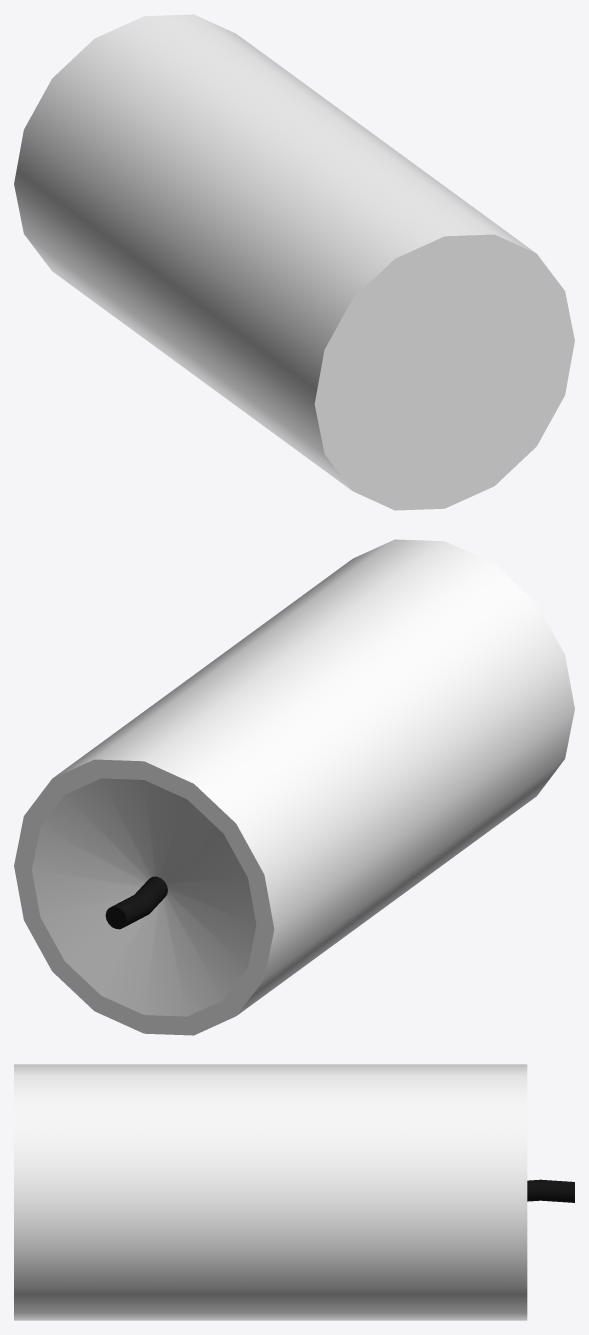
Rendered from Fit_LaZhu_1X1_off.FBX.
The picture shows the model from 3 angles, top to bottom: view 1: azimuth 30°, elevation 25°; view 2: azimuth 150°, elevation 25°; view 3: azimuth 270°, elevation 25°; orthographic projection. The views are drawn at different scales.
Parts seen in each view (by area): view 1: Box002; view 2: Box002; view 3: Box002.
Boxes of the visible parts, x1,y1,x2,y2 form: Box002: (14,14,574,510); Box002: (14,539,574,1035); Box002: (14,1064,574,1320).
Bounding box in the file's own units: 0.5 × 1.09 × 0.5.
